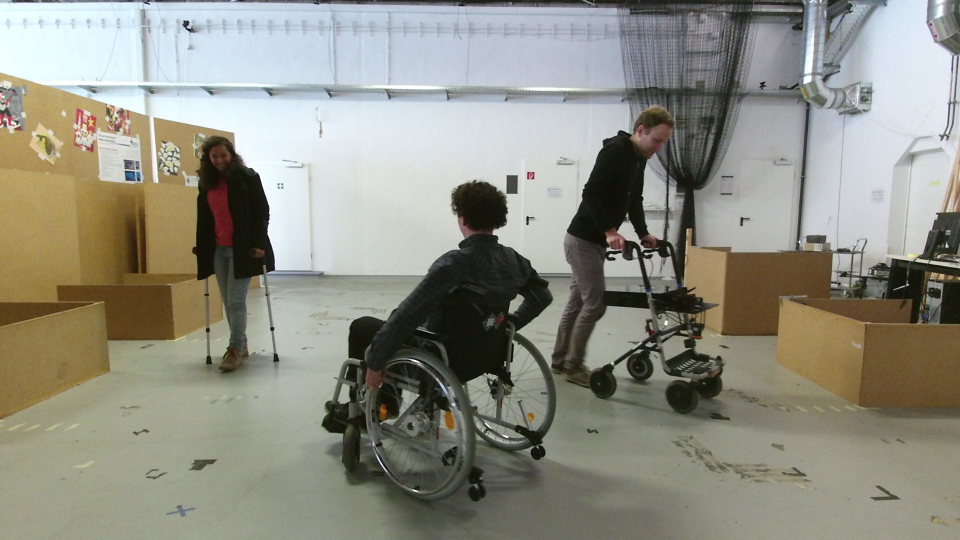crutches: (191, 134, 278, 369)
wheelchair: (311, 179, 562, 511)
